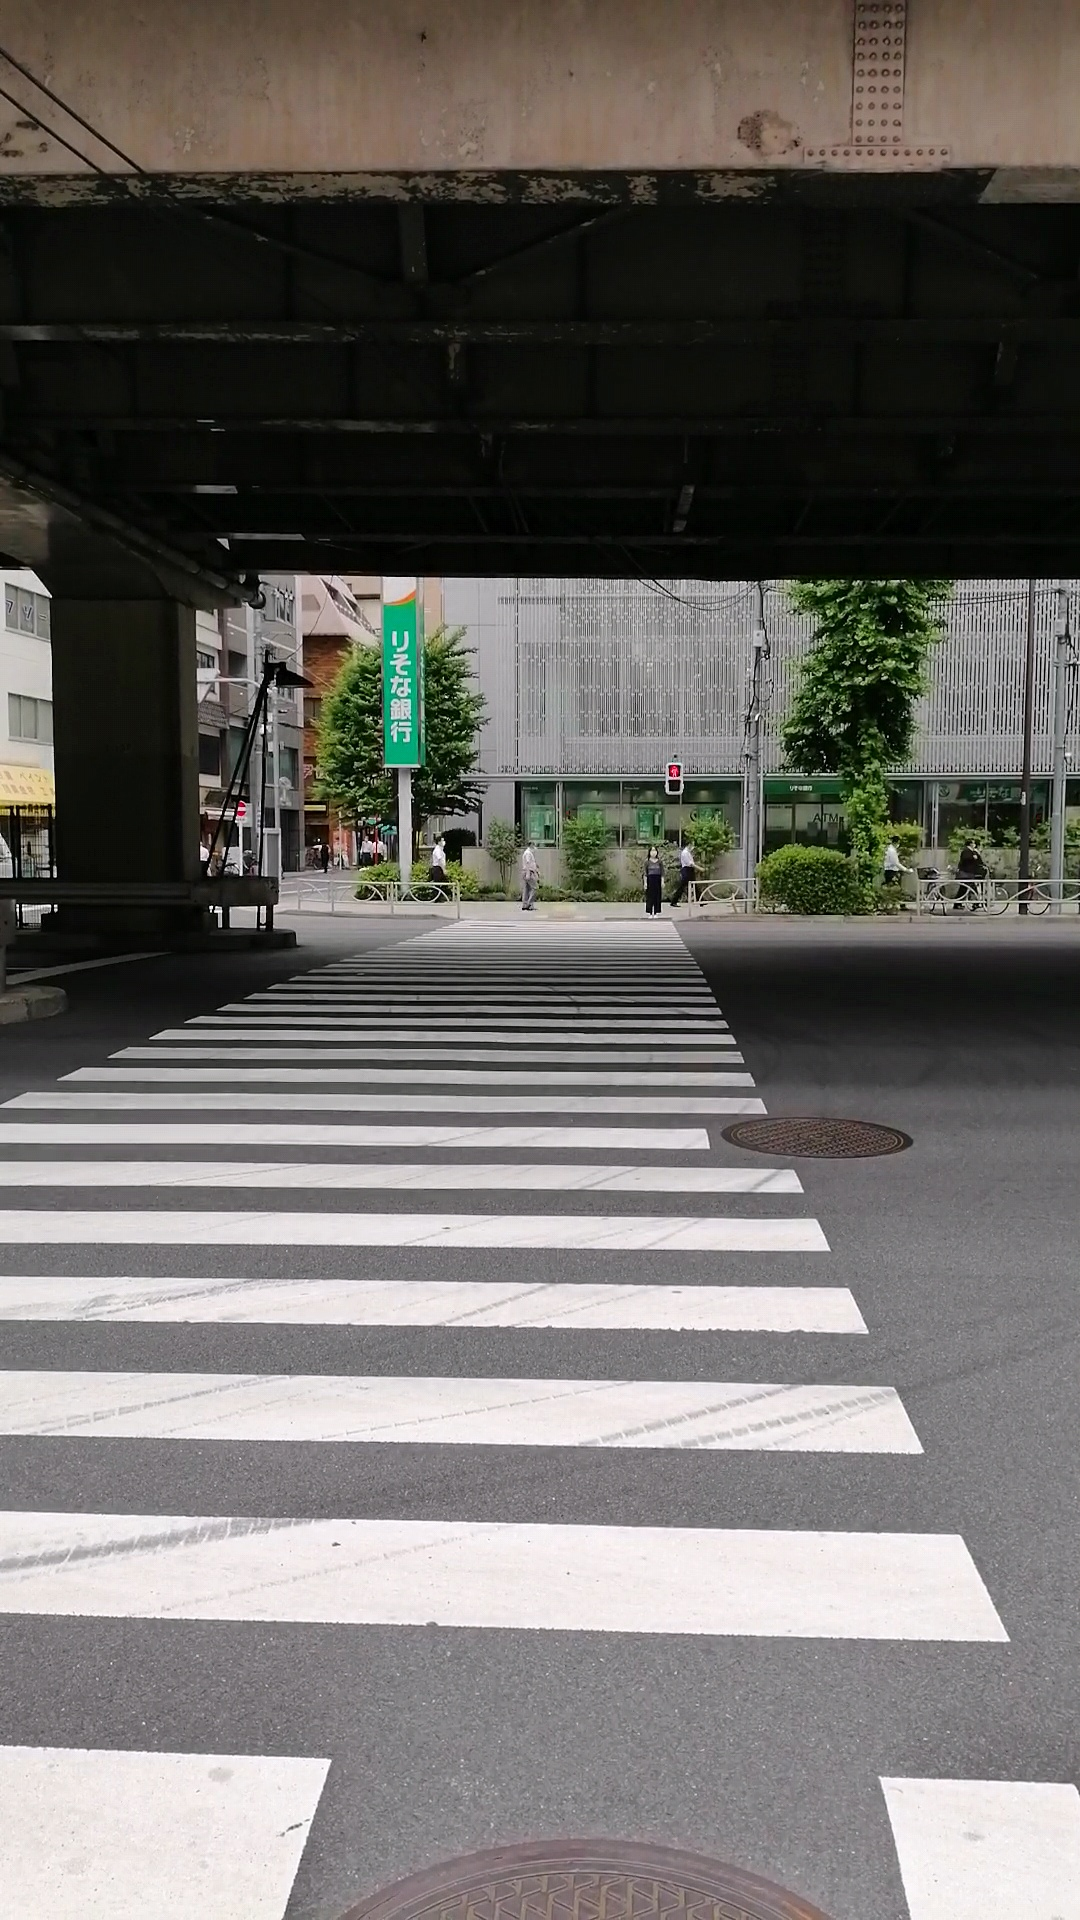red: (665, 761, 683, 793)
